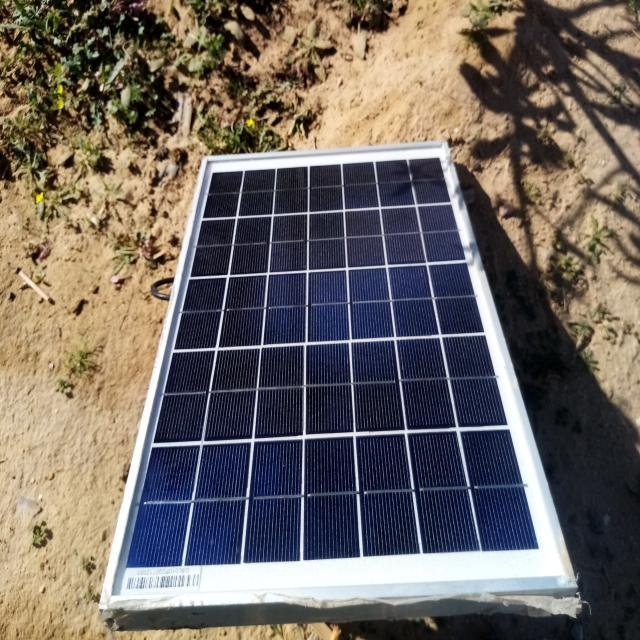no faulty: (103, 144, 577, 607)
